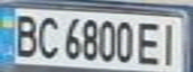0: (115, 17, 139, 64), (97, 17, 118, 63)
6: (60, 14, 81, 61)
8: (78, 16, 100, 62)
B: (9, 10, 42, 58)
C: (33, 12, 60, 60)
E: (136, 18, 163, 66)
I: (157, 19, 184, 67)
